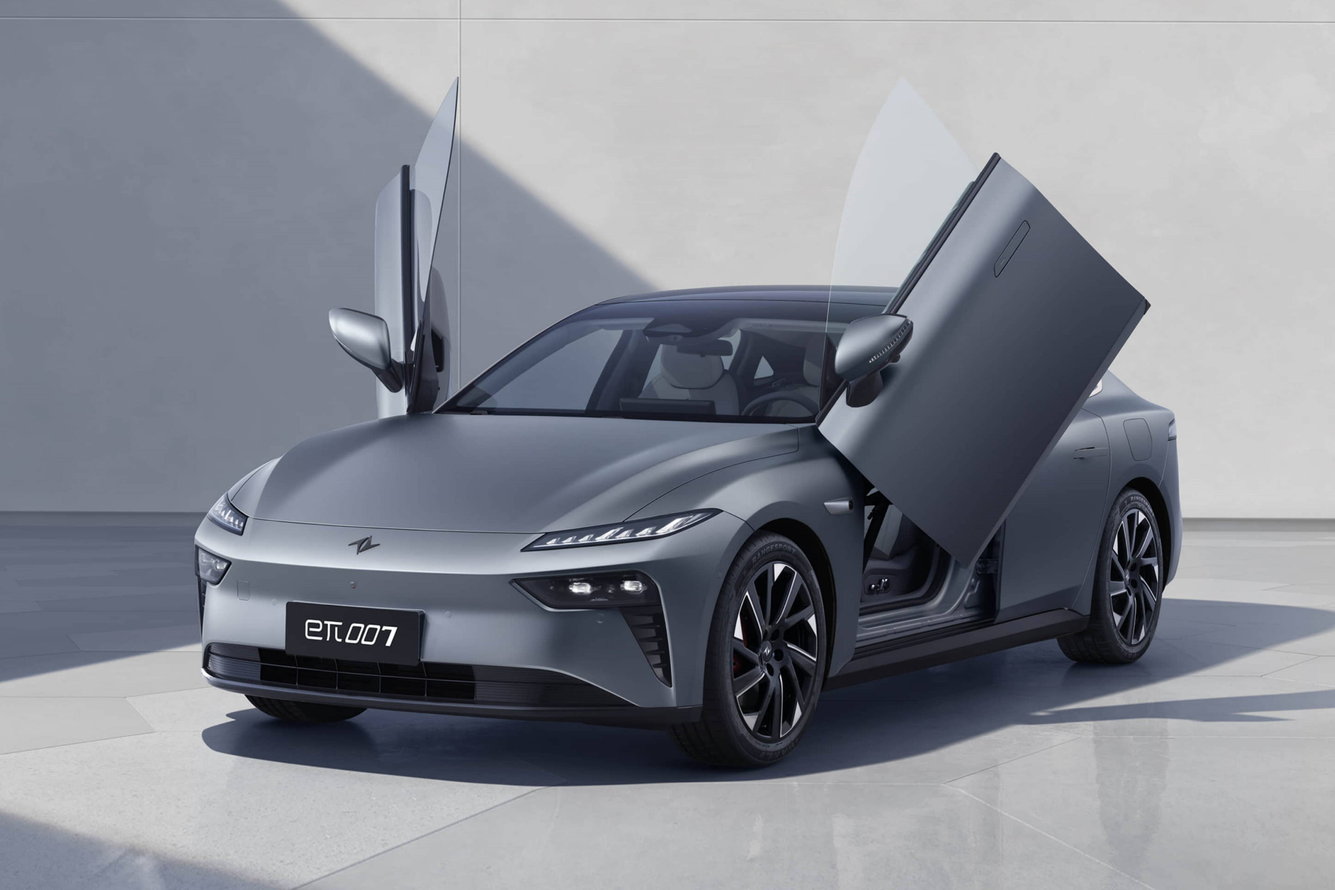other: (164, 289, 1190, 744)
